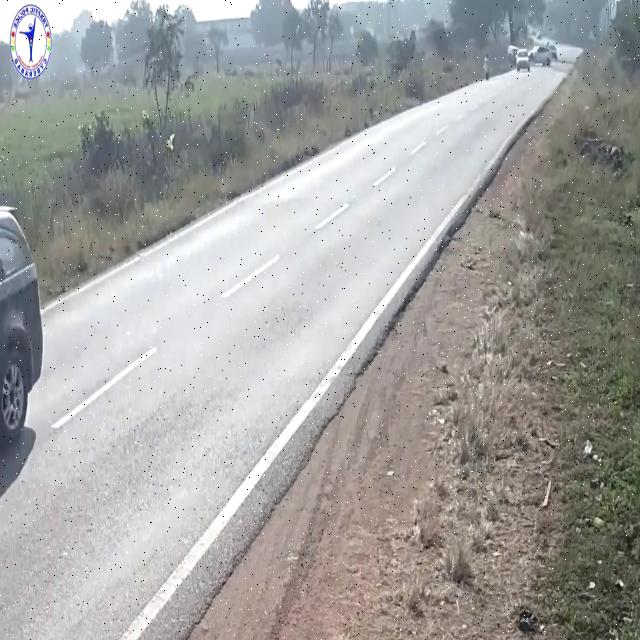accident: (513, 39, 556, 76)
